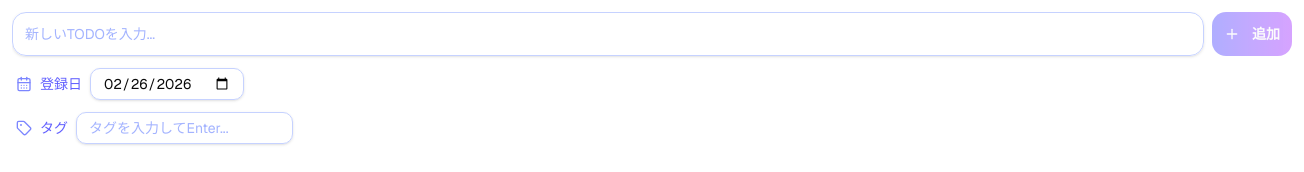
Test: TodoInput › テキスト入力で追加ボタンが有効になる
Type "タスク" into the field with placeholder "新しいTODOを入力..." at (608, 34), box [12,12,1204,56]
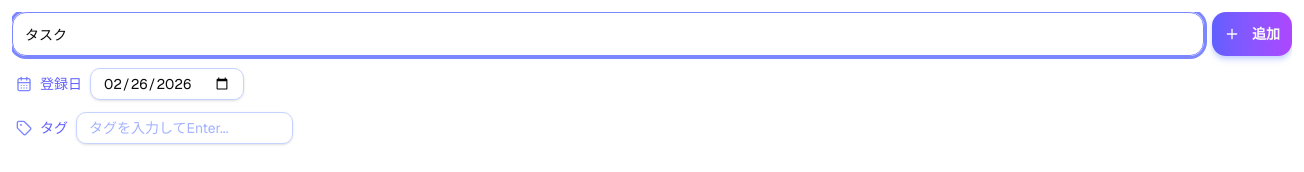
Check: the button "追加" is enabled, box [1212,12,1292,56]
